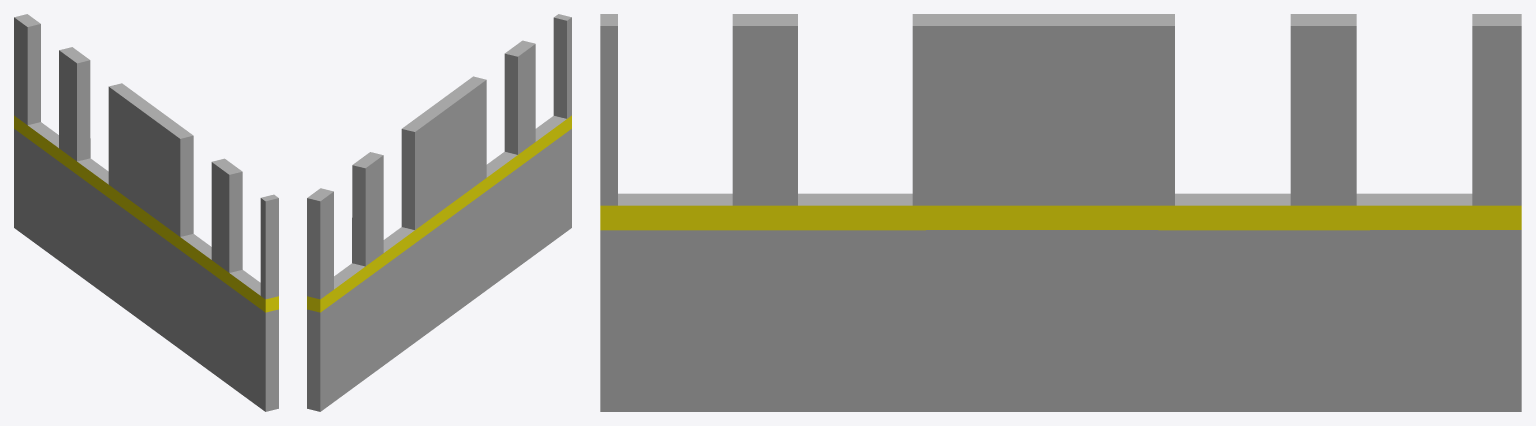
The model's file is 4th room back wall.fbx.
3 views of the same model, side by side, from view 1: azimuth 30°, elevation 25°; view 2: azimuth 150°, elevation 25°; view 3: azimuth 270°, elevation 25° (orthographic). The views are drawn at different scales.
Visible parts, largest first — view 1: Cube.011, Cube.013; view 2: Cube.011, Cube.013; view 3: Cube.011, Cube.013.
Boxes of the visible parts, box(x1,y1,x2,y2) form: Cube.011: box(113, 87, 278, 411); Cube.013: box(14, 14, 126, 299); Cube.011: box(407, 14, 571, 338); Cube.013: box(307, 125, 419, 411); Cube.011: box(600, 14, 1158, 411); Cube.013: box(1157, 14, 1521, 411).
Size of the model in its own units: 101 by 1517 by 3282.
